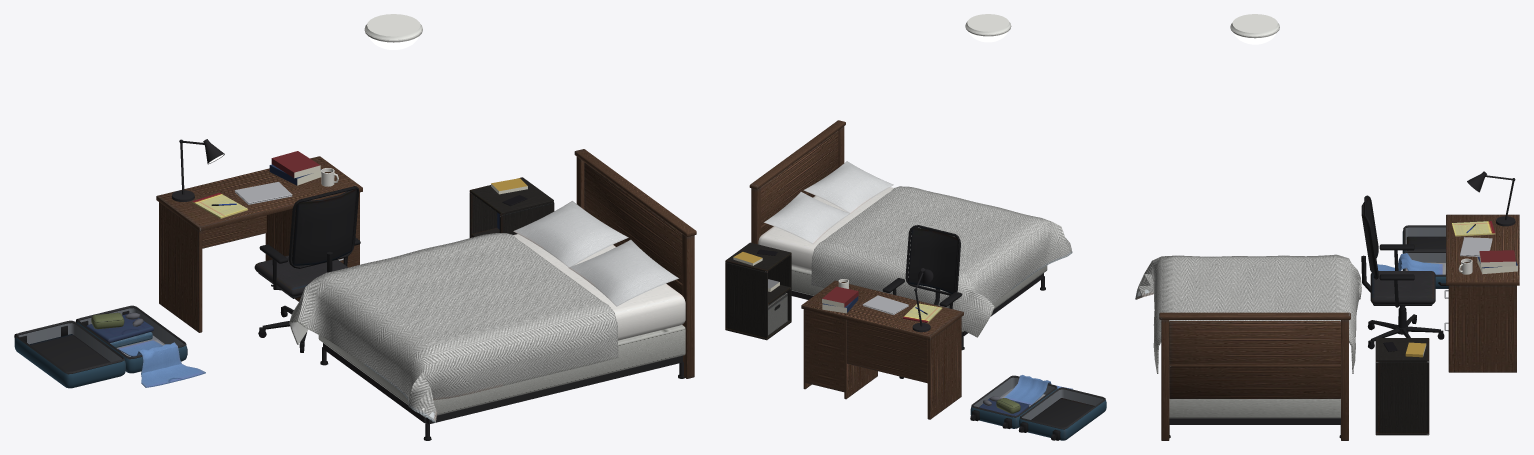
File: us_bedroom_props.glb
3 renders of one model, left to right at view 1: azimuth 30°, elevation 25°; view 2: azimuth 150°, elevation 25°; view 3: azimuth 270°, elevation 25°, orthographic. The views are drawn at different scales.
Visible parts, largest first — view 1: US_BED, US_DESK, US_SUITCASE, US_DESKCHAIR, US_NIGHTSTAND, US_CEILINGLIGHT; view 2: US_BED, US_DESK, US_SUITCASE, US_NIGHTSTAND, US_DESKCHAIR, US_CEILINGLIGHT; view 3: US_BED, US_DESK, US_NIGHTSTAND, US_DESKCHAIR, US_SUITCASE, US_CEILINGLIGHT.
Part boxes in pixels (x1=…): US_BED: x1=289, y1=149, x2=696, y2=440; US_DESK: x1=156, y1=139, x2=362, y2=332; US_SUITCASE: x1=14, y1=305, x2=205, y2=388; US_DESKCHAIR: x1=254, y1=186, x2=360, y2=352; US_NIGHTSTAND: x1=469, y1=177, x2=554, y2=237; US_CEILINGLIGHT: x1=364, y1=14, x2=422, y2=42; US_BED: x1=749, y1=120, x2=1072, y2=350; US_DESK: x1=801, y1=268, x2=963, y2=419; US_SUITCASE: x1=970, y1=375, x2=1106, y2=440; US_NIGHTSTAND: x1=725, y1=242, x2=791, y2=340; US_DESKCHAIR: x1=882, y1=225, x2=962, y2=378; US_CEILINGLIGHT: x1=965, y1=14, x2=1011, y2=36; US_BED: x1=1135, y1=254, x2=1361, y2=440; US_DESK: x1=1444, y1=171, x2=1519, y2=372; US_NIGHTSTAND: x1=1375, y1=338, x2=1429, y2=435; US_DESKCHAIR: x1=1361, y1=195, x2=1444, y2=349; US_SUITCASE: x1=1377, y1=225, x2=1448, y2=288; US_CEILINGLIGHT: x1=1230, y1=14, x2=1279, y2=38.
Bounding box in the file's own units: 3.56 × 2.6 × 2.87.
Materials: 2 (1 with a texture image).
